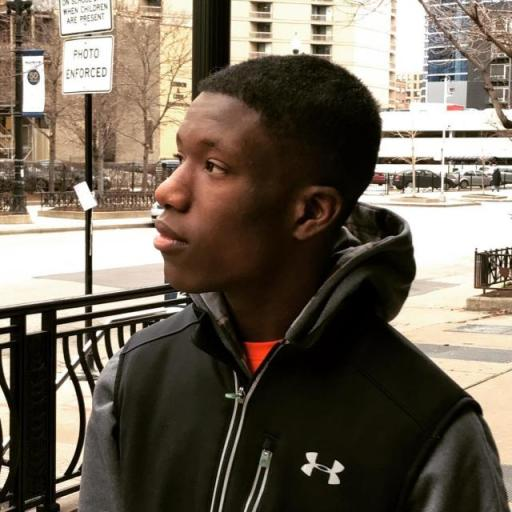Under Armour: (298, 448, 346, 486)
